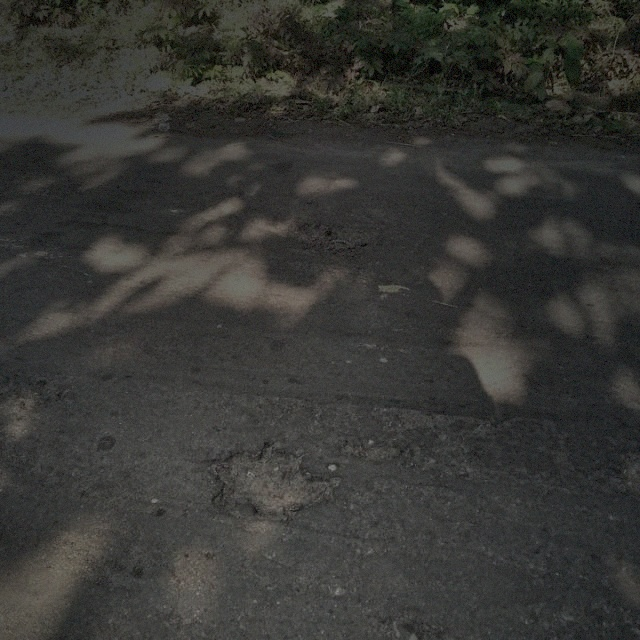pothole: (204, 439, 334, 523), (292, 215, 380, 258)
